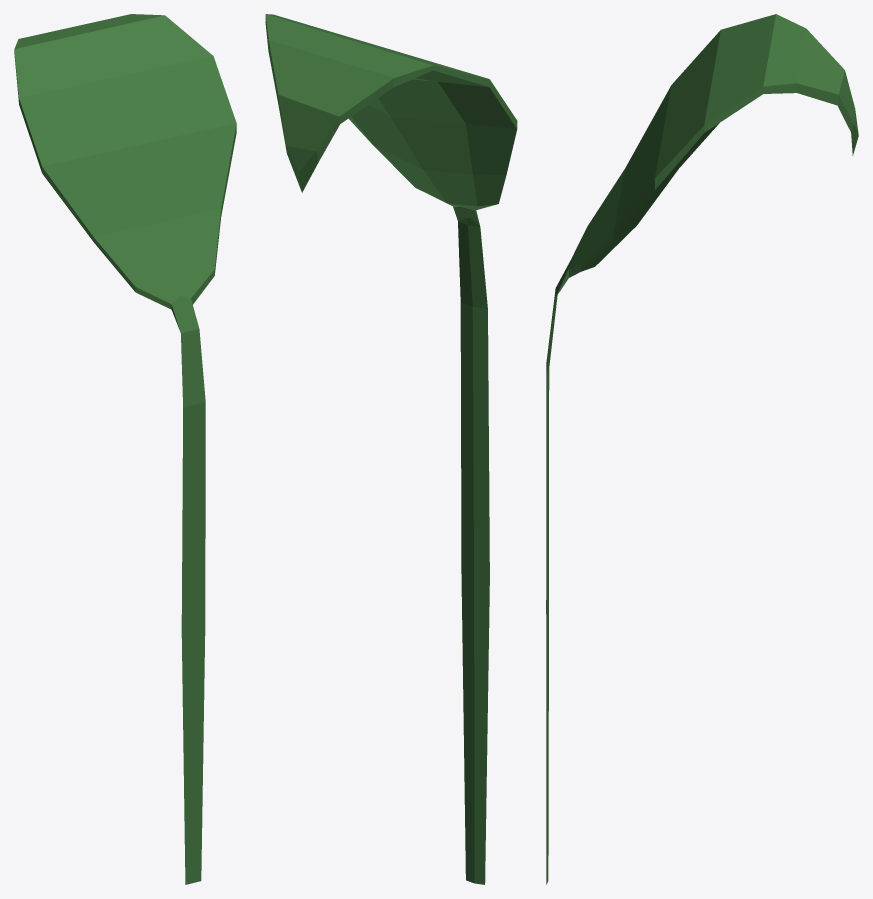
File: Weedplant01.gltf
3 renders of one model, left to right at view 1: azimuth 30°, elevation 25°; view 2: azimuth 150°, elevation 25°; view 3: azimuth 270°, elevation 25°, orthographic. The views are drawn at different scales.
Parts seen in each view (by area): view 1: Plane; view 2: Plane; view 3: Plane.
Boxes of the visible parts, <box> form: Plane: <box>14,14,236,884</box>; Plane: <box>265,14,517,884</box>; Plane: <box>546,14,858,884</box>.
Bounding box in the file's own units: 0.1894 × 0.7515 × 0.2559.
1 material, 1 textured.
